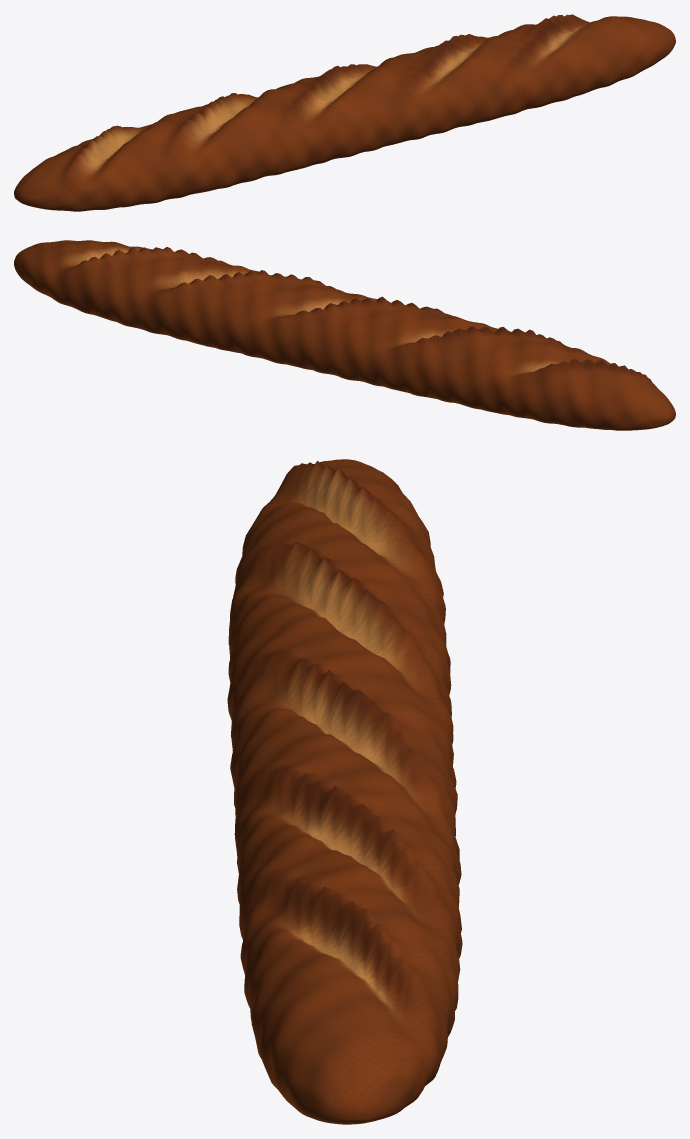
File: NEW359_baguette_LOD0.glb
3 renders of one model, top to bottom at view 1: azimuth 30°, elevation 25°; view 2: azimuth 150°, elevation 25°; view 3: azimuth 270°, elevation 25°, orthographic. The views are drawn at different scales.
Parts seen in each view (by area): view 1: Whole_baguette_closed_baked_shell; view 2: Whole_baguette_closed_baked_shell; view 3: Whole_baguette_closed_baked_shell.
Boxes of the visible parts, x1,y1,x2,y2 form: Whole_baguette_closed_baked_shell: (14,14,675,211); Whole_baguette_closed_baked_shell: (14,240,675,430); Whole_baguette_closed_baked_shell: (227,459,462,1124).
Size of the model in its own units: 0.54 by 0.0554 by 0.0835.
1 material, 1 textured.
